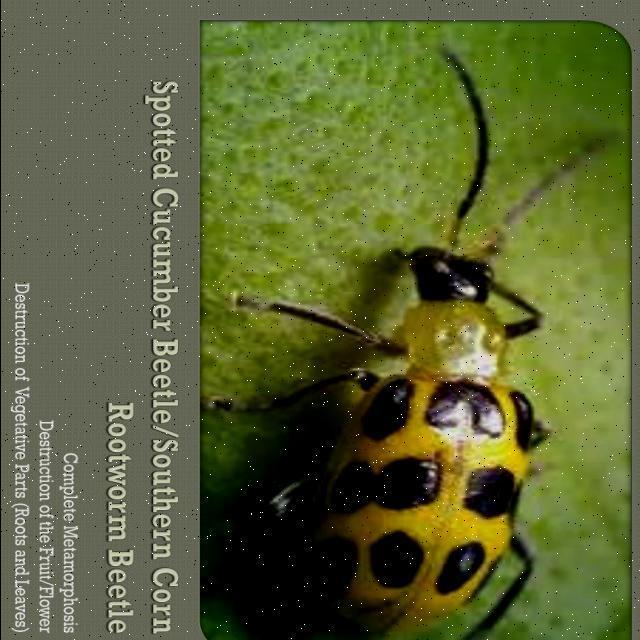gusano_verde: (242, 68, 622, 640)
